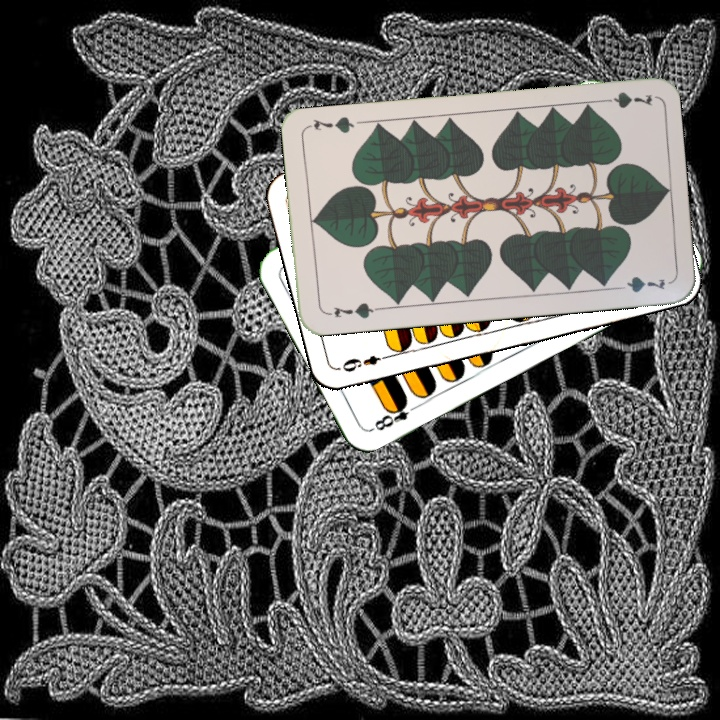E8: (368, 396, 423, 434)
E9: (336, 350, 394, 375)
G7: (594, 87, 654, 111), (330, 299, 381, 321)
